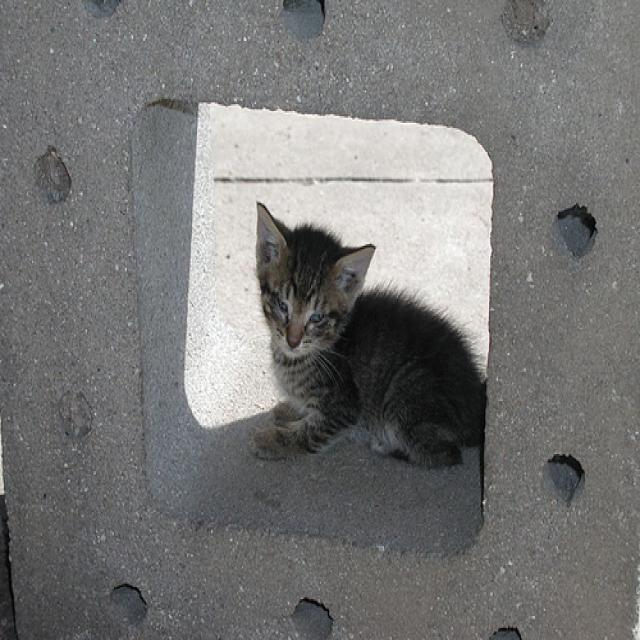left eye: (307, 307, 325, 324)
